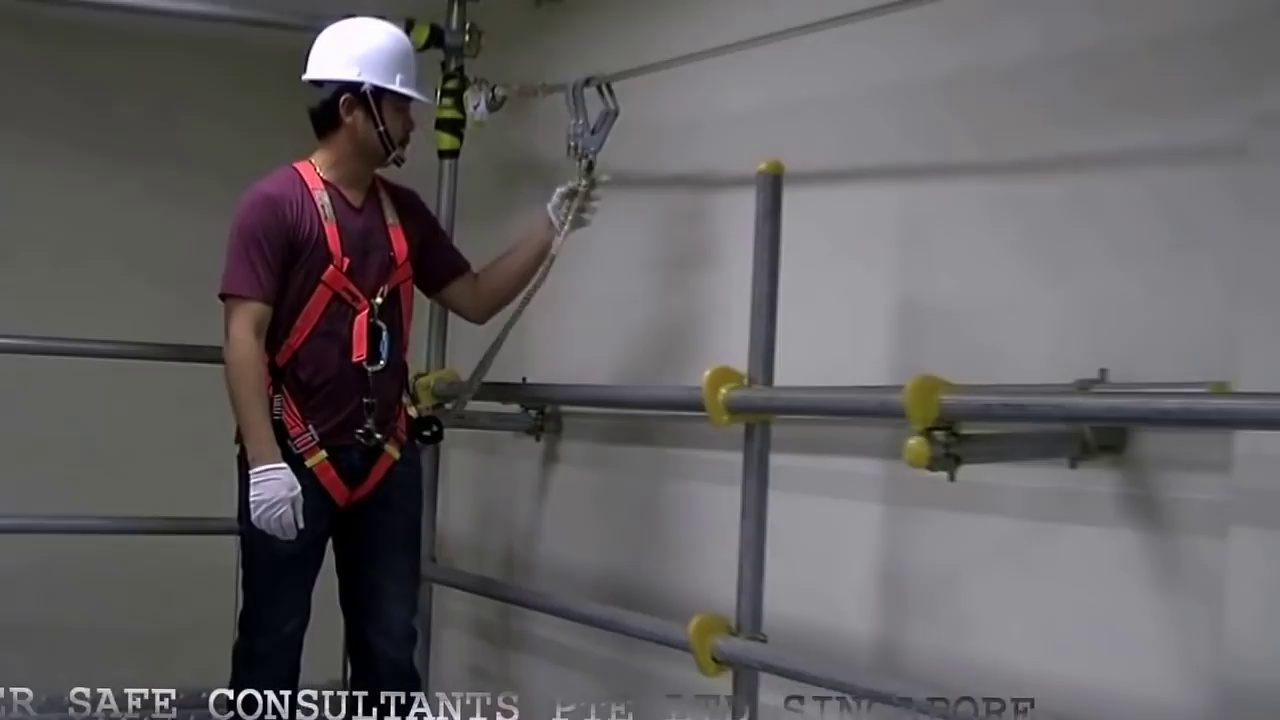harness: (283, 172, 412, 492)
helmet: (302, 20, 425, 99)
hook: (558, 70, 620, 160)
leash: (440, 252, 575, 436)
